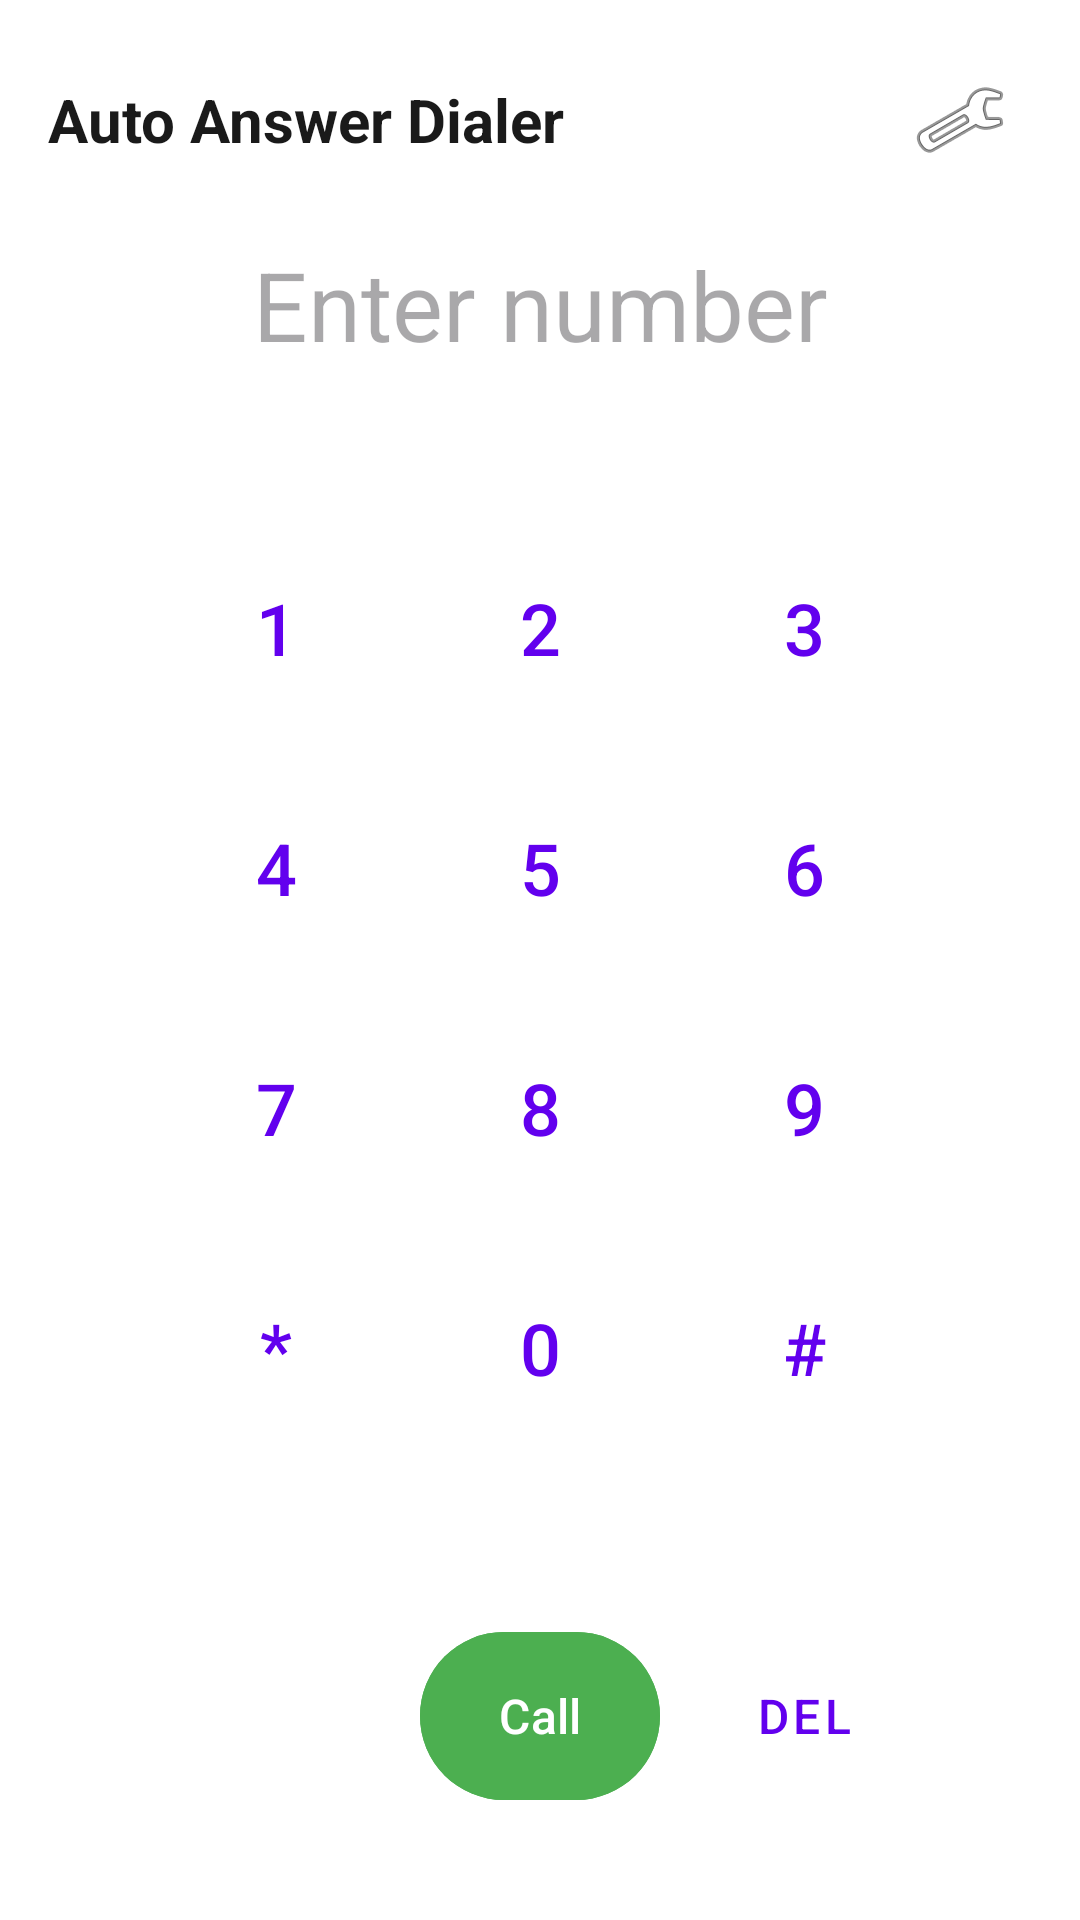

Point at icon controls on the screen. Image size 1080px x 1920px, points as (x=x, y=y).
Settings: (x=960, y=120)
